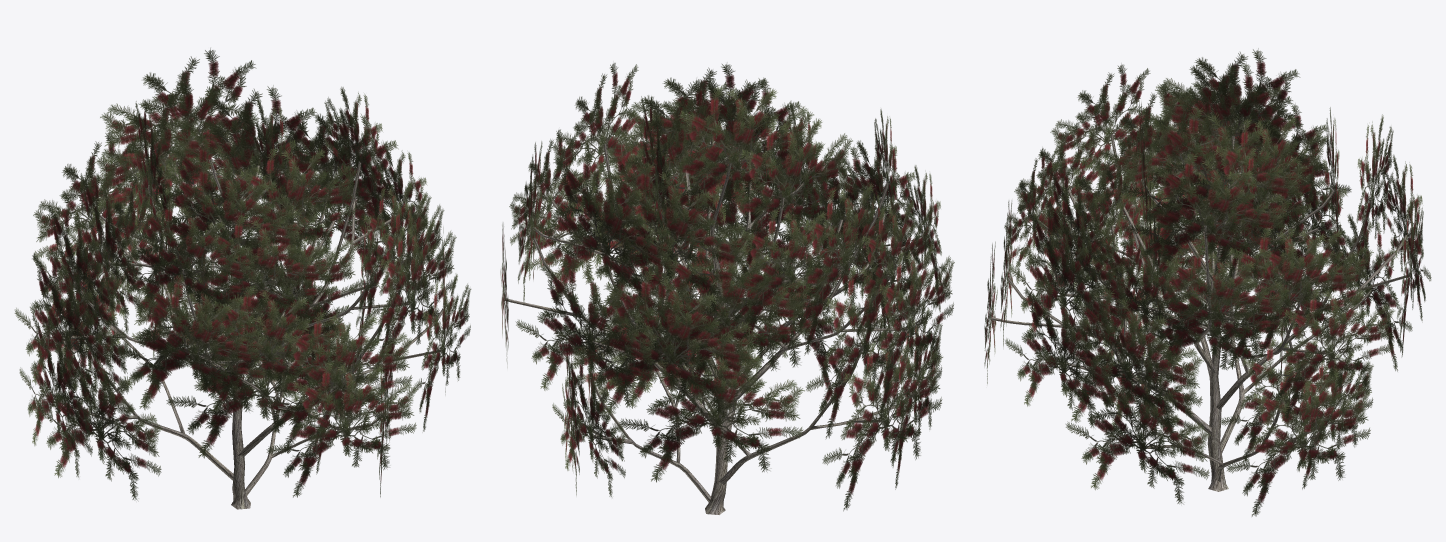
Rendered from shrub_01.glb.
3 views of the same model, side by side, from view 1: azimuth 30°, elevation 25°; view 2: azimuth 150°, elevation 25°; view 3: azimuth 270°, elevation 25° (orthographic). The views are drawn at different scales.
Visible parts, largest first — view 1: Callistemon_rigidus_RT; view 2: Callistemon_rigidus_RT; view 3: Callistemon_rigidus_RT.
Part boxes in pixels (x1,y1,x2,y2): Callistemon_rigidus_RT: (14,48,471,509); Callistemon_rigidus_RT: (500,63,954,514); Callistemon_rigidus_RT: (984,48,1431,516).
Bounding box in the file's own units: 0.8933 × 1 × 0.9231.
Materials: 2 (2 with a texture image).
